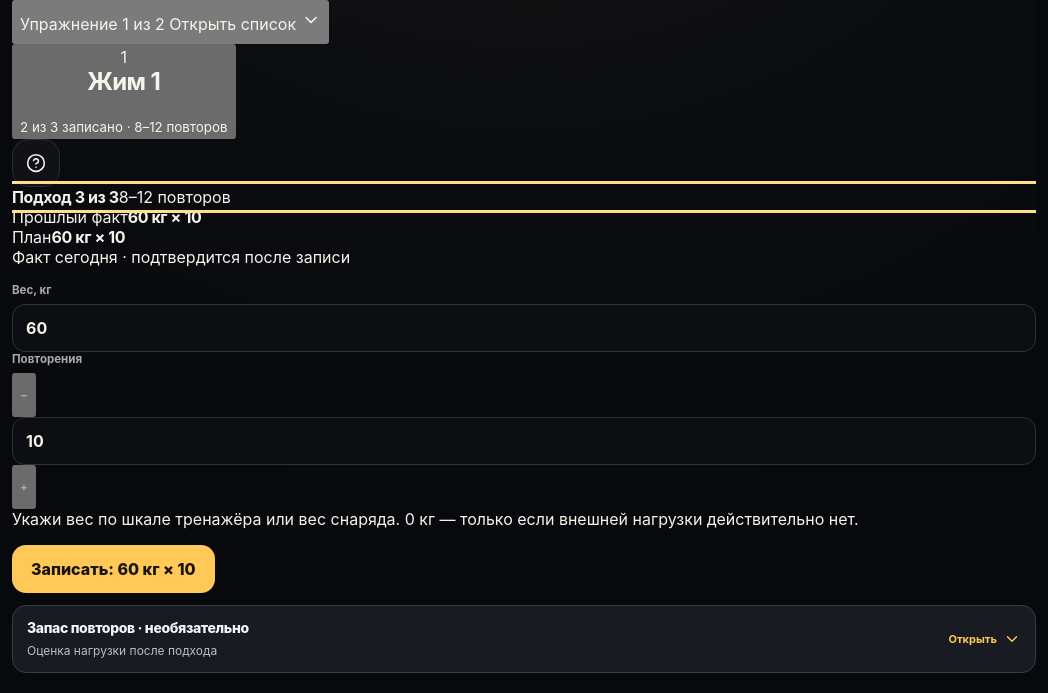
Scenario: gym flow acceptance › automatically moves to the next exercise after the last set, with one editor and remaining-work rest
(page scrolled)
Click the button with aria-label "Записать подход 3 · Жим 1" at (113, 569), box left=12, top=545, right=215, bottom=593
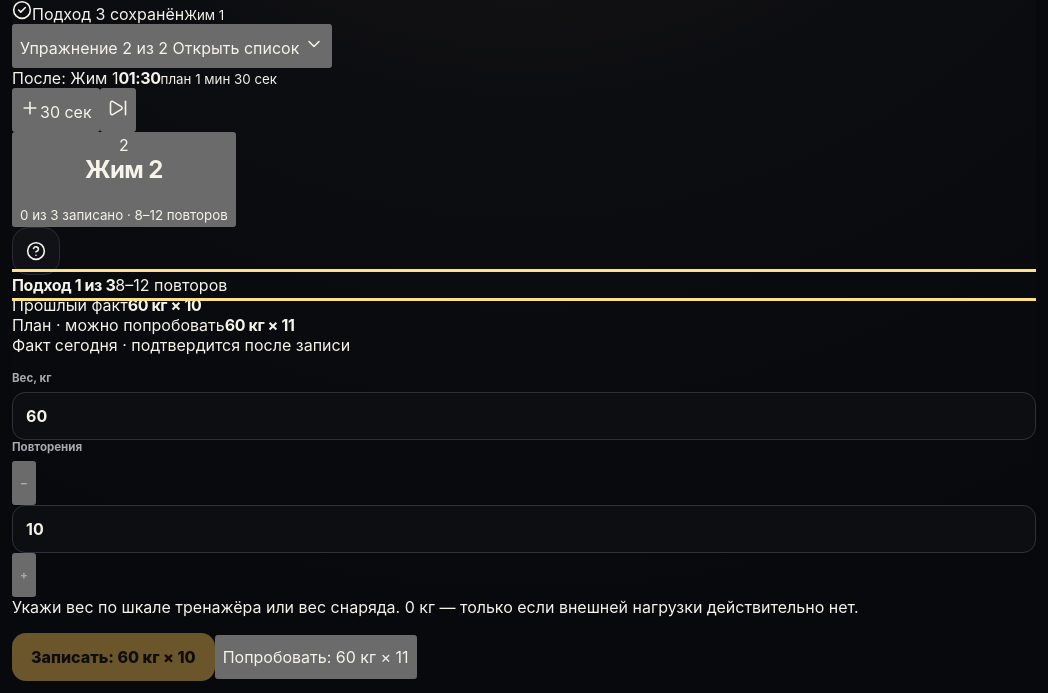
Check: the button with aria-label "Записать подход 1 · Жим 2" is shown, box left=12, top=633, right=215, bottom=681
Check: the text "Подход 3 сохранён" is shown, box left=32, top=4, right=184, bottom=24
